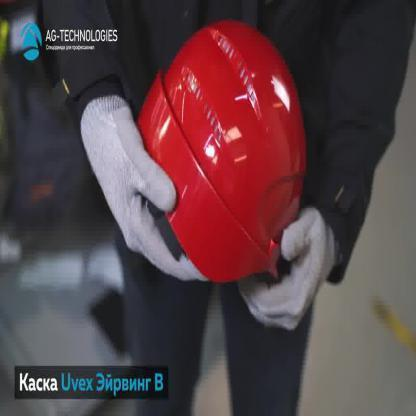gloves: (80, 92, 209, 282), (238, 202, 338, 333)
helmet: (132, 18, 307, 288)
